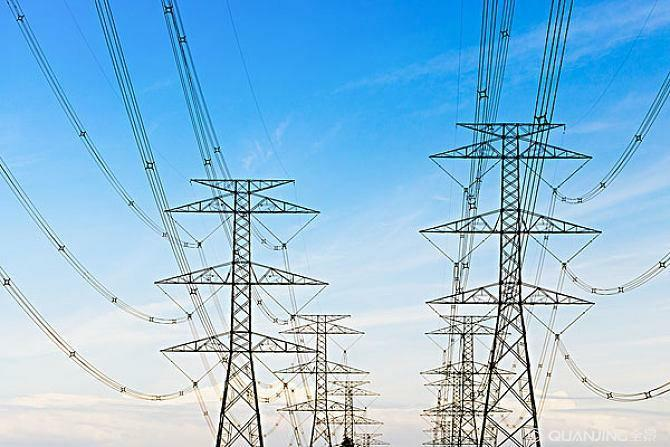power_tower: (421, 108, 598, 447), (162, 159, 300, 447), (282, 311, 364, 447), (424, 306, 503, 447)
